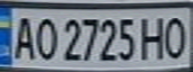2: (96, 15, 121, 63), (60, 15, 81, 62)
5: (115, 15, 139, 62)
7: (78, 15, 100, 63)
A: (9, 12, 39, 61)
H: (139, 12, 169, 61)
O: (160, 12, 190, 60), (30, 14, 57, 62)
